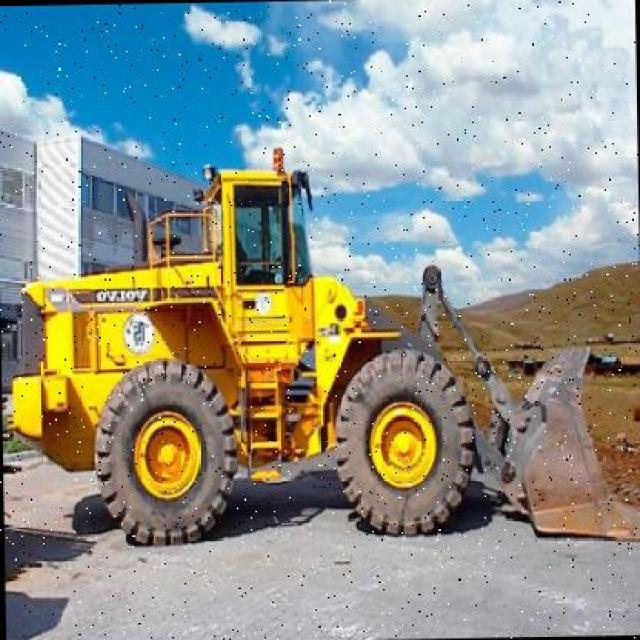buldozerpayloadergrader: (1, 134, 639, 568)
